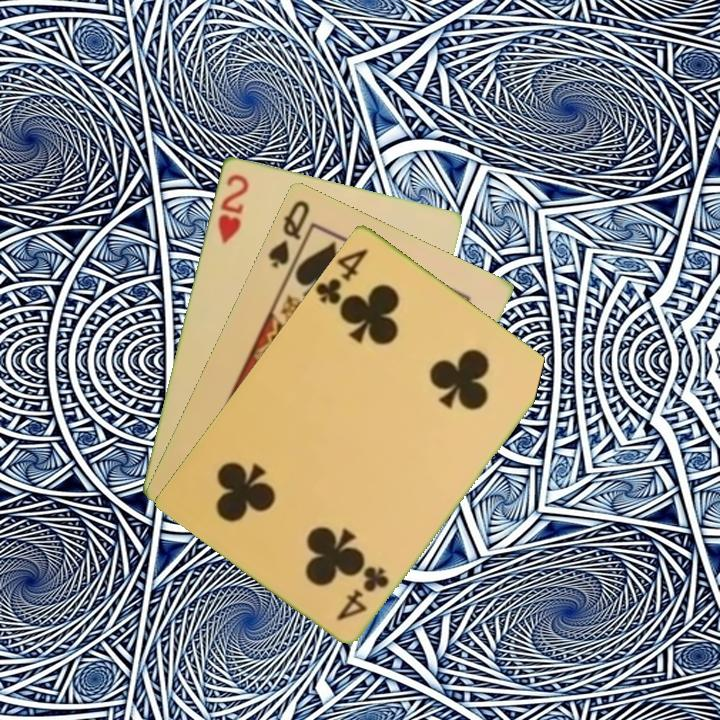2h: (214, 170, 252, 247)
4c: (312, 244, 371, 307), (333, 561, 392, 623)
Qs: (264, 196, 313, 271)
